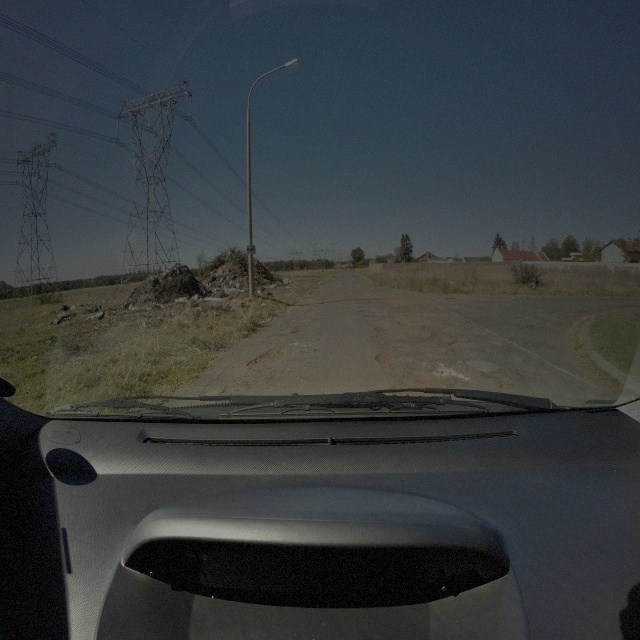pothole: (245, 344, 289, 371), (375, 349, 397, 367), (373, 325, 388, 335), (450, 338, 465, 346), (438, 324, 450, 332)
